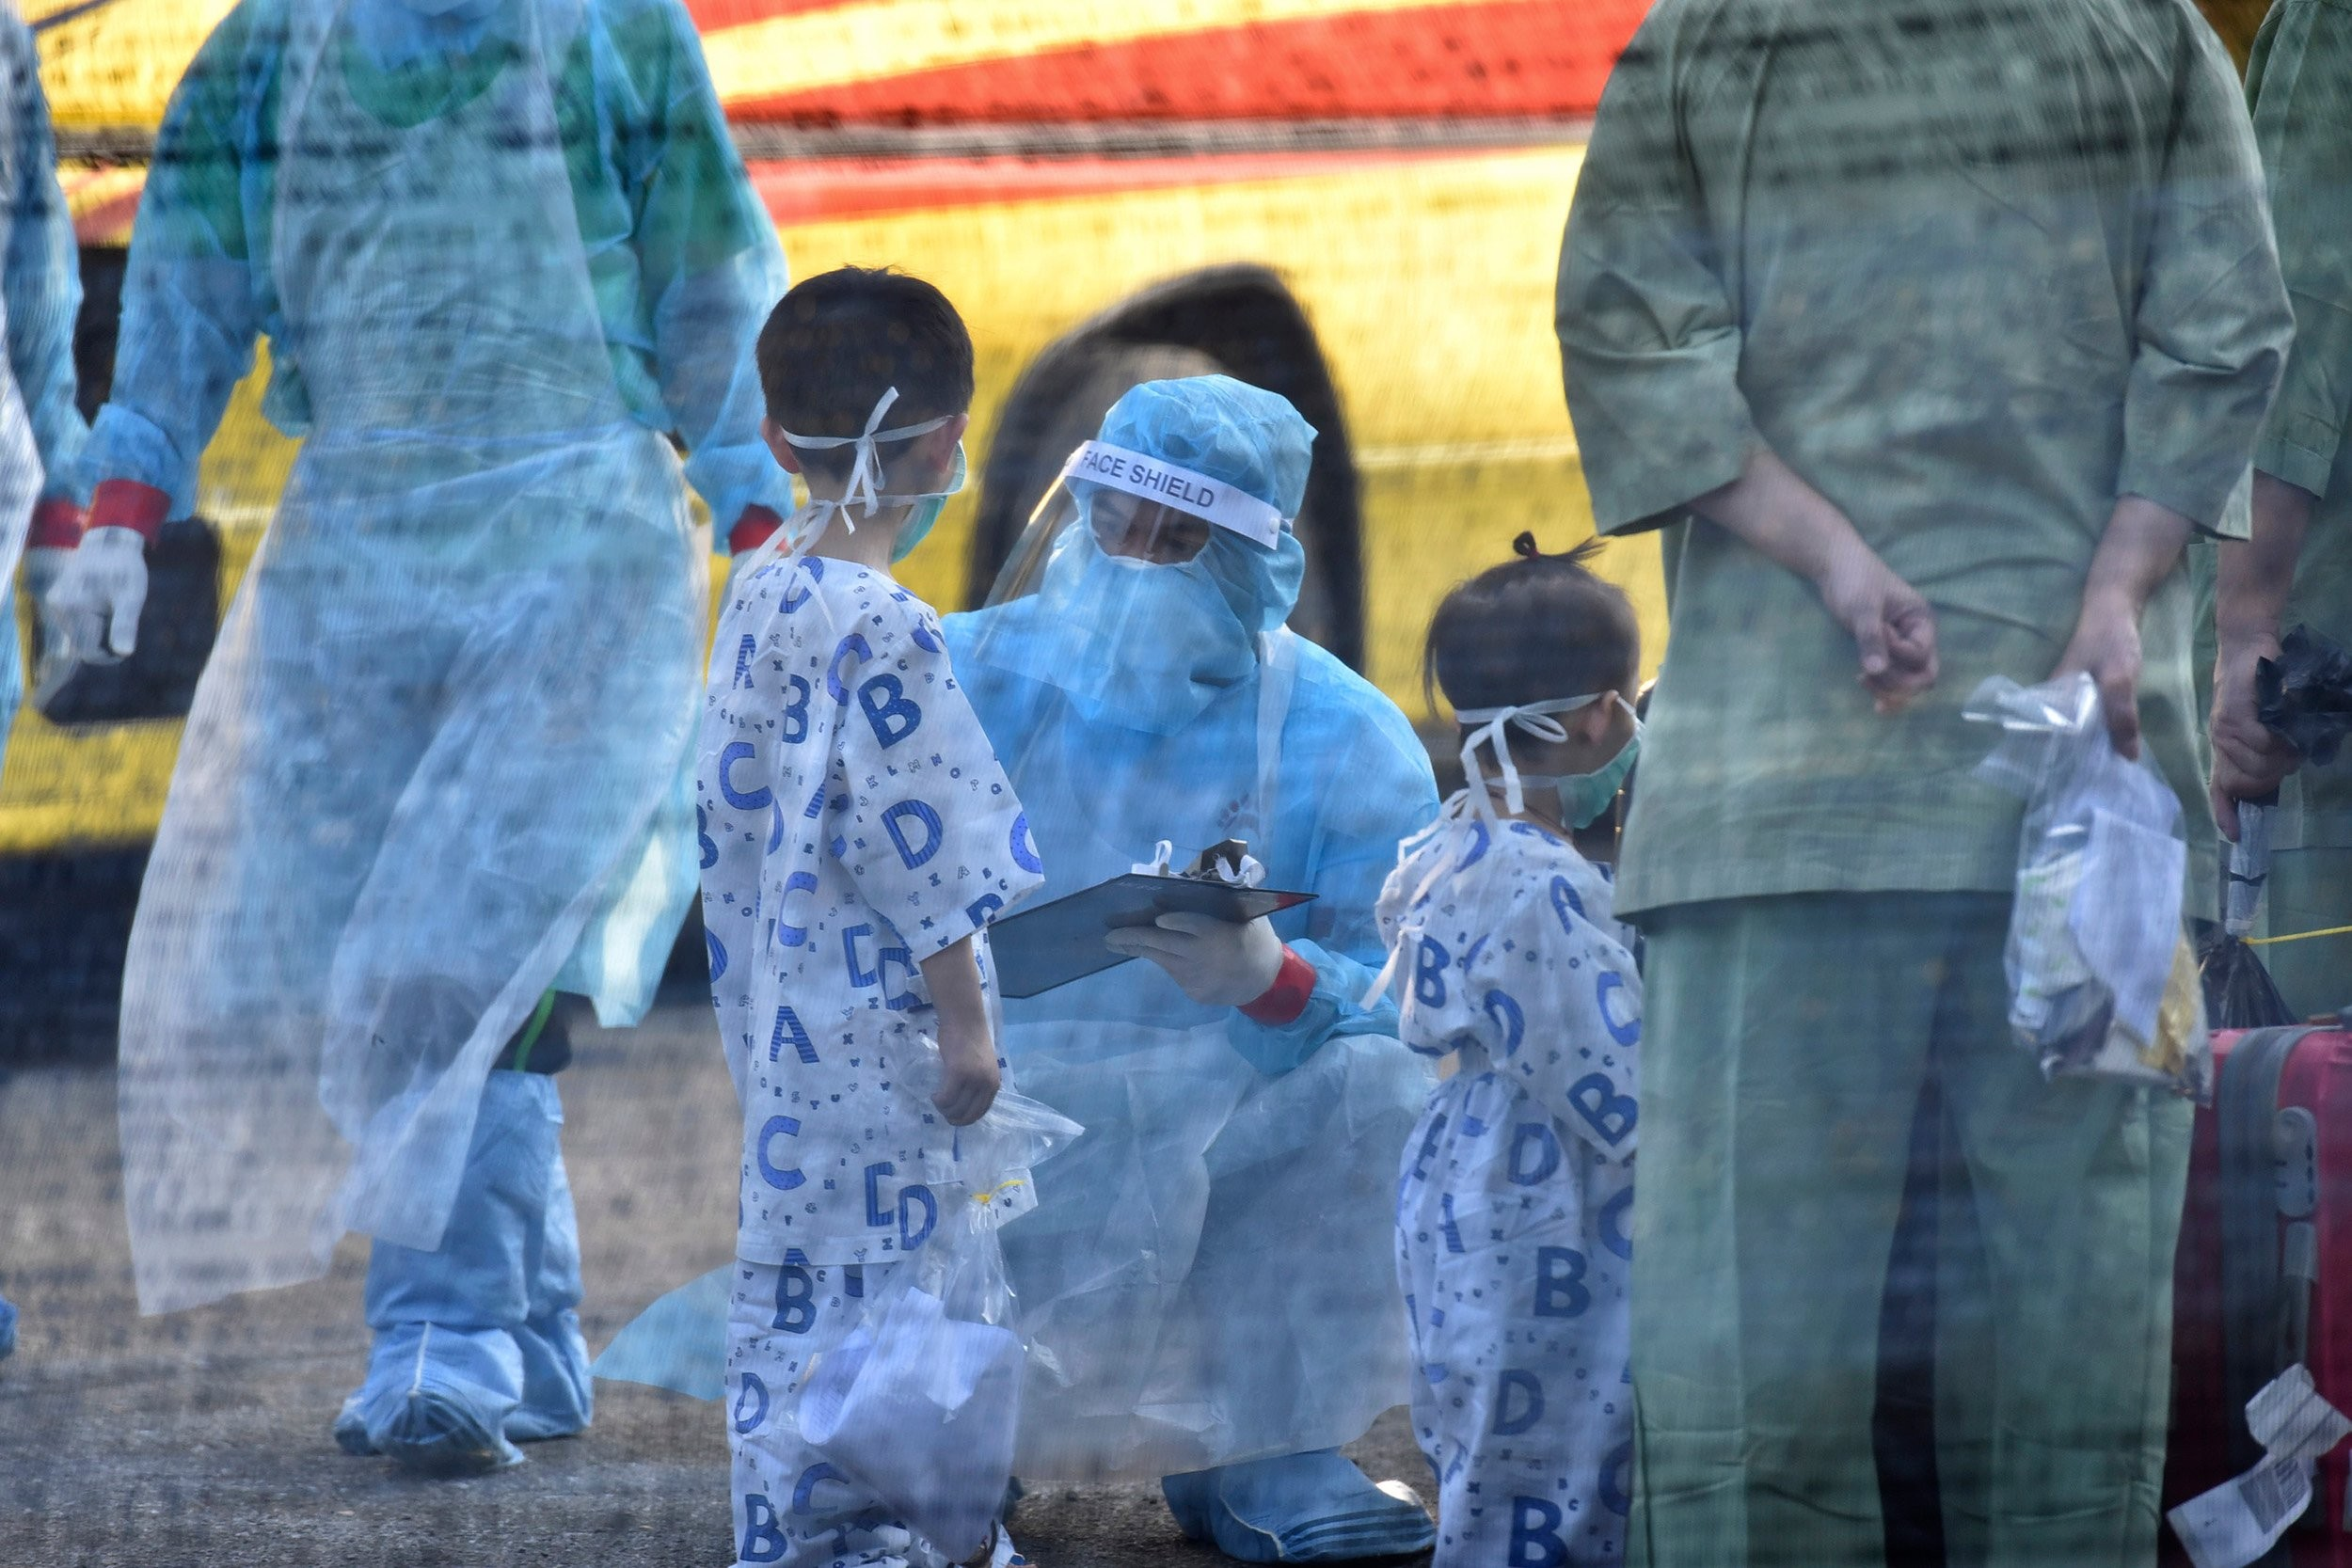Coverall: (77, 1, 782, 1307), (855, 379, 1457, 1568)
Face_Shield: (1003, 425, 1308, 782)
Gloves: (1099, 895, 1311, 1025), (31, 522, 143, 670)
with_mask: (1073, 507, 1206, 705), (1551, 695, 1644, 830)
